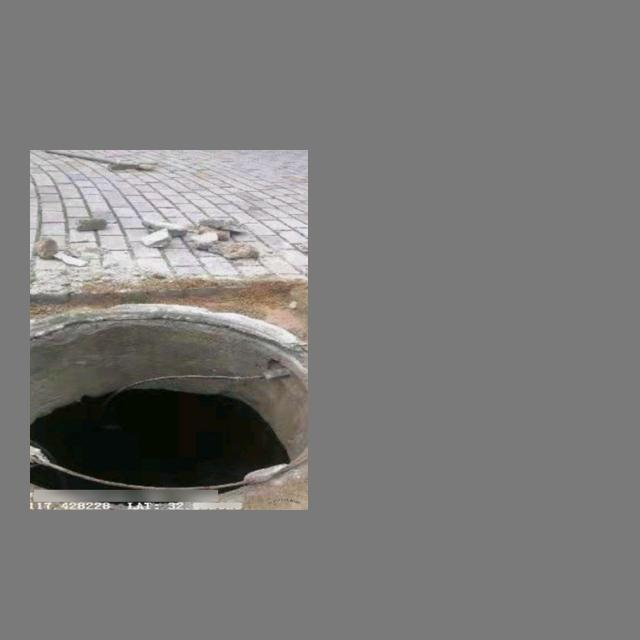lose: (30, 308, 308, 496)
